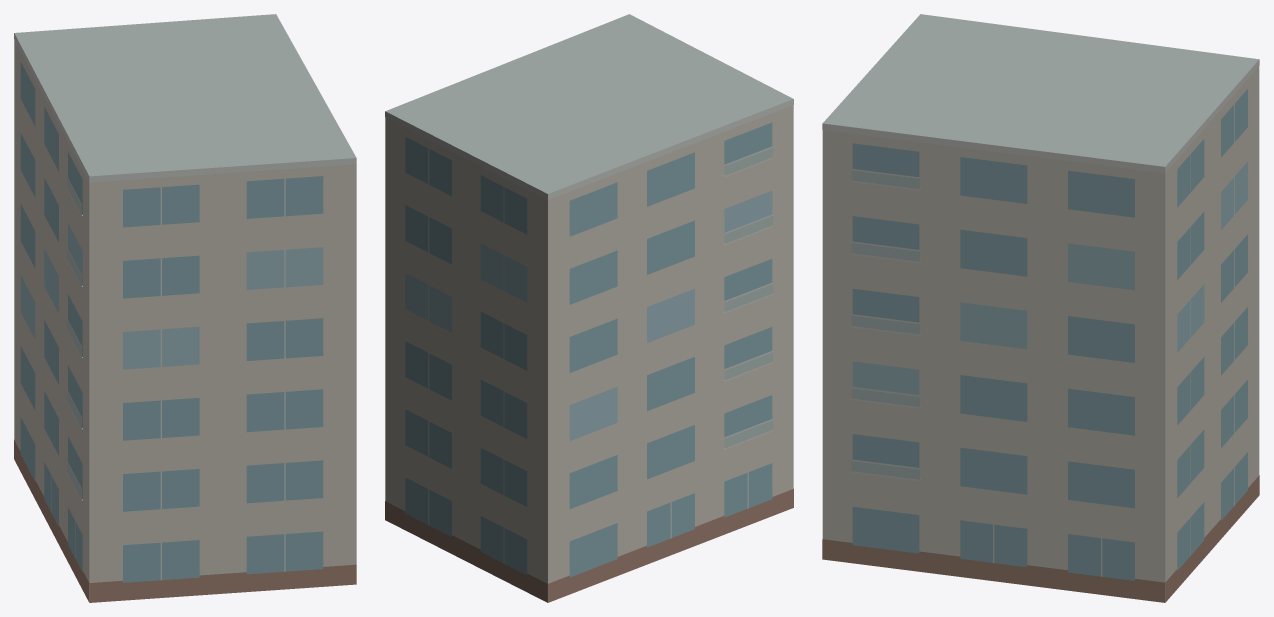
The model's file is survey-upis-33030103.glb.
3 views of the same model, side by side, from view 1: azimuth 30°, elevation 25°; view 2: azimuth 150°, elevation 25°; view 3: azimuth 270°, elevation 25° (orthographic). The views are drawn at different scales.
Visible parts, largest first — view 1: survey-upis-33030103.tmp; view 2: survey-upis-33030103.tmp; view 3: survey-upis-33030103.tmp.
Part boxes in pixels (x1=…): survey-upis-33030103.tmp: x1=14, y1=14, x2=356, y2=602; survey-upis-33030103.tmp: x1=385, y1=14, x2=793, y2=602; survey-upis-33030103.tmp: x1=822, y1=14, x2=1259, y2=602.
Bounding box in the file's own units: 12.49 × 16.6 × 15.09.
